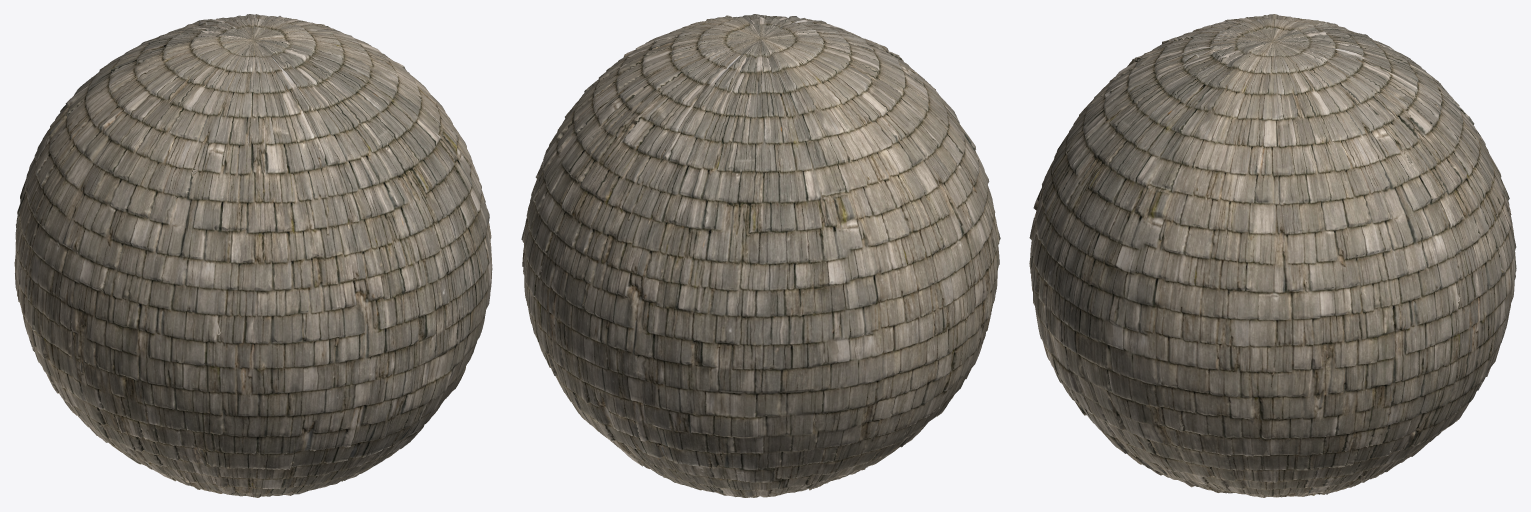
File: roof_slates_02_1k.gltf
The picture shows the model from 3 angles, left to right: view 1: azimuth 30°, elevation 25°; view 2: azimuth 150°, elevation 25°; view 3: azimuth 270°, elevation 25°; orthographic projection.
Parts seen in each view (by area): view 1: sphere_gltf; view 2: sphere_gltf; view 3: sphere_gltf.
Boxes of the visible parts, box(x1,y1,x2,y2) form: sphere_gltf: box(14, 14, 492, 497); sphere_gltf: box(521, 14, 1000, 497); sphere_gltf: box(1029, 14, 1516, 497).
Bounding box in the file's own units: 3 × 3.04 × 3.05.
1 material, 1 textured.
